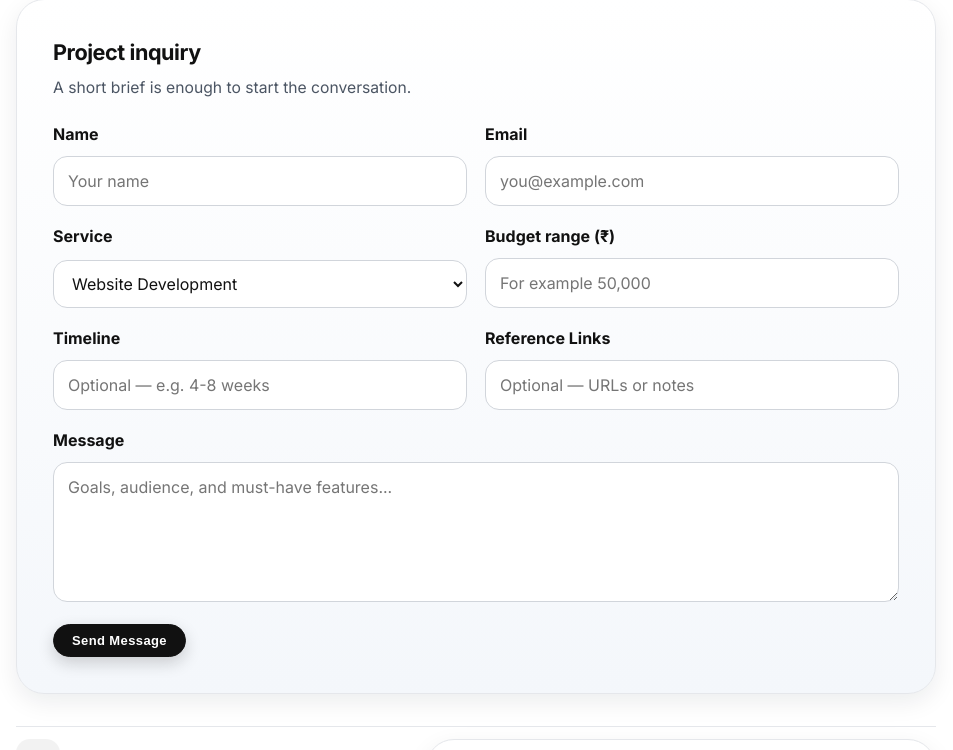
Test case: ContactPage › sanitizes timeline input to letters, numbers, spaces, and hyphens
(page scrolled)
Type "4@8 weeks!!!" into the field labelled "Timeline" at (260, 385), box [53,360,467,410]
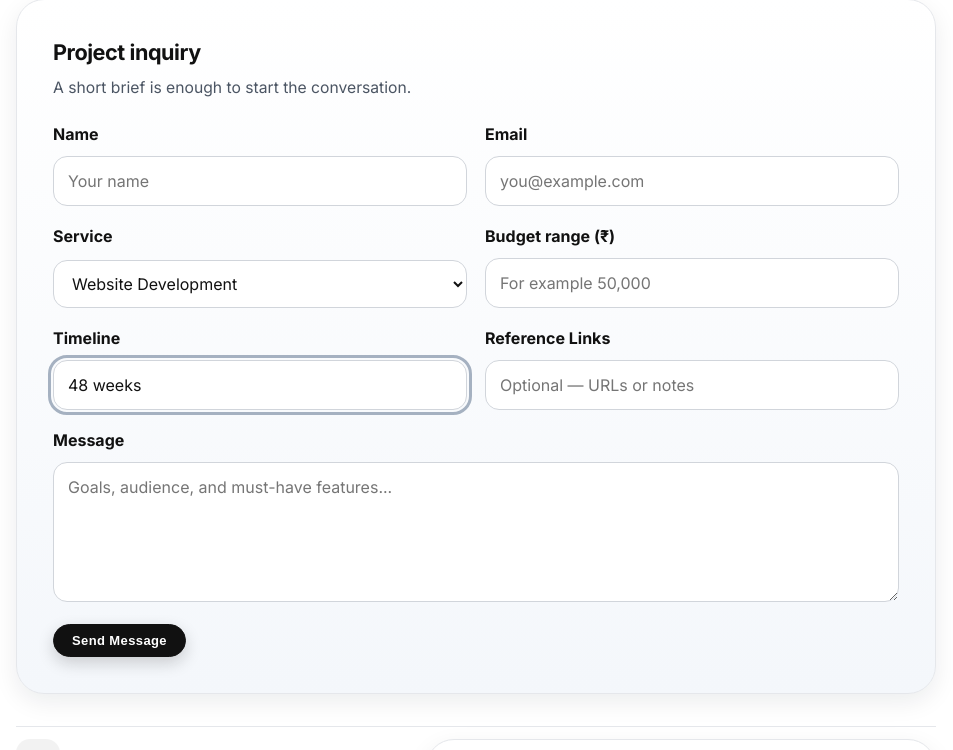
Check: the field labelled "Timeline" holds "48 weeks", box [53,360,467,410]
